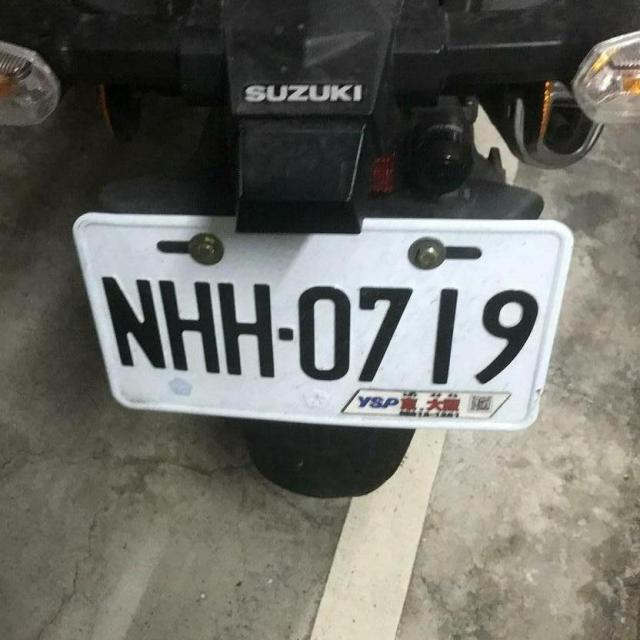W: (73, 195, 558, 453)
